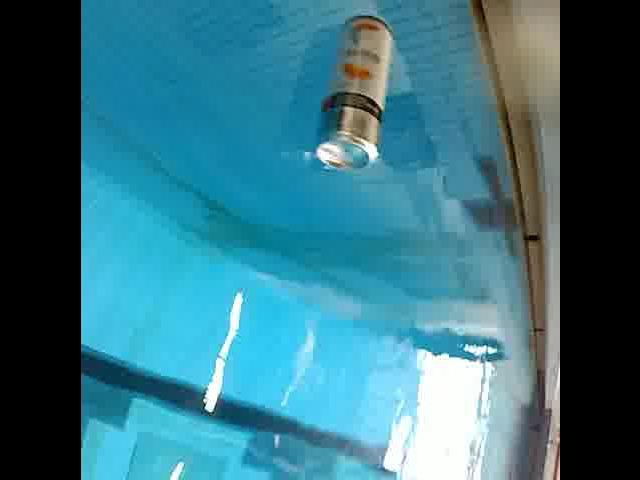Can: (312, 15, 394, 175)
